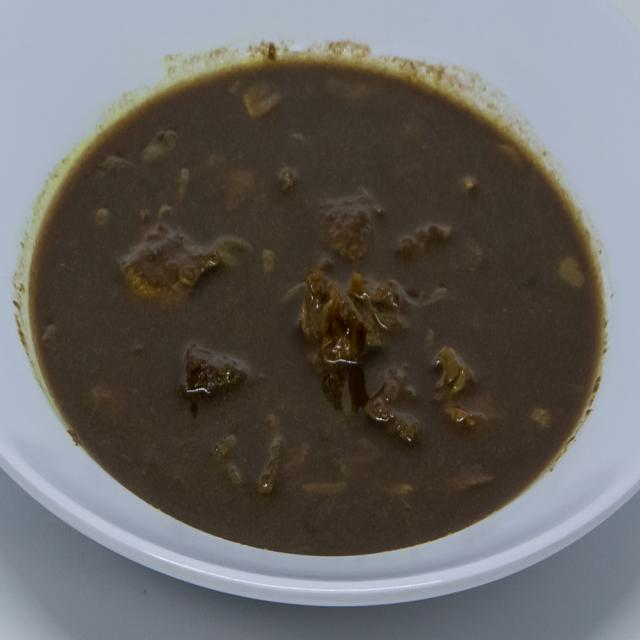Rawon-Surabaya: (21, 32, 606, 568)
